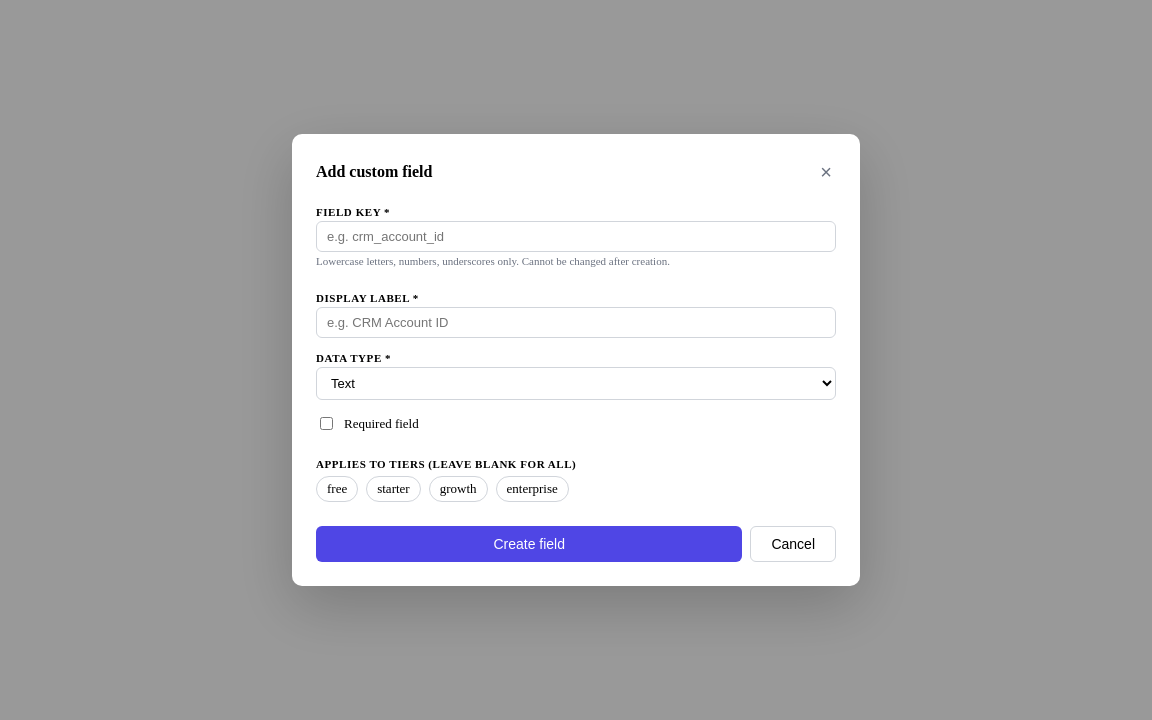
Test: AddCustomFieldModal › shows error for duplicate key (409)
This screenshot has width=1152, height=720.
Type "crm_account_id" into the field labelled "Field key *".
click(576, 236); type("crm_account_id")  # box left=316, top=221, right=836, bottom=252
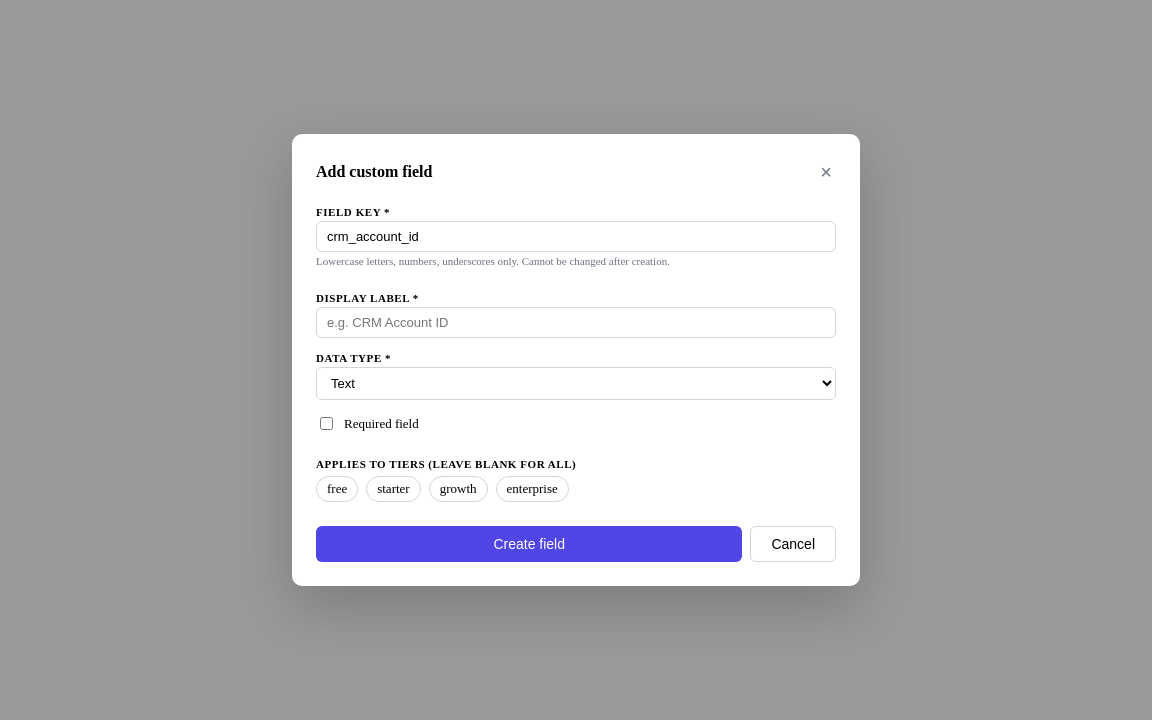
Type "Dupe" into the field labelled "Display label *".
click(576, 322); type("Dupe")  # box left=316, top=307, right=836, bottom=338
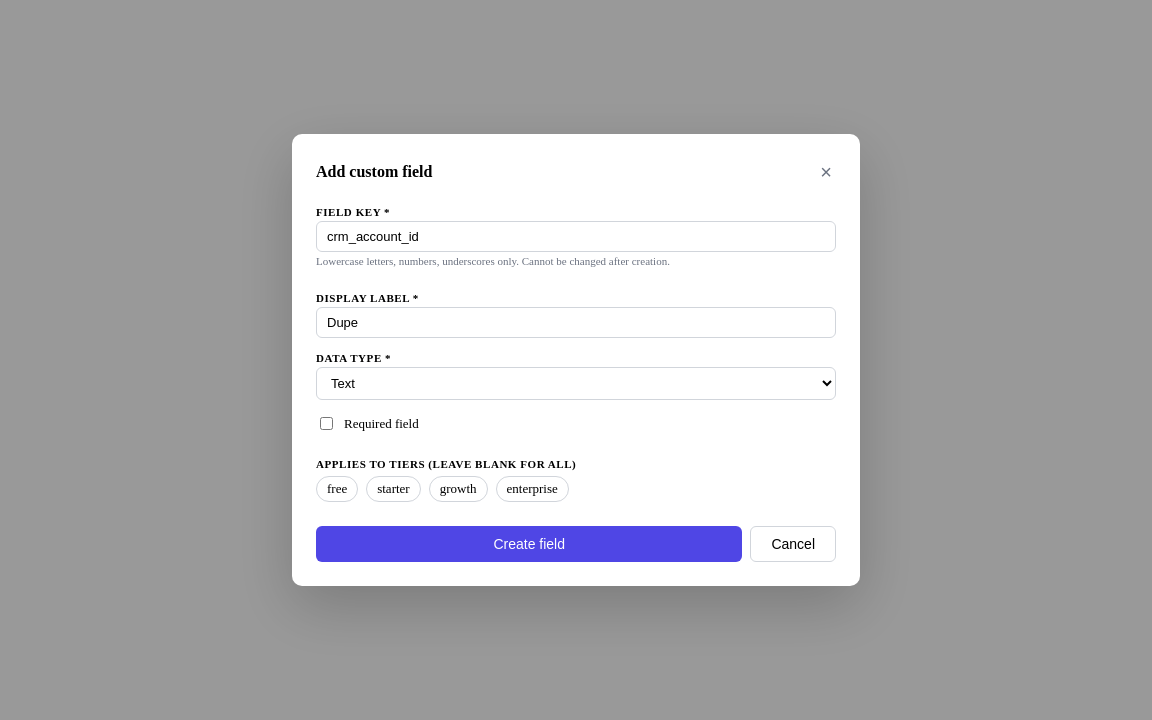
Click the button "Create field".
click(529, 544)  # box left=316, top=526, right=742, bottom=562
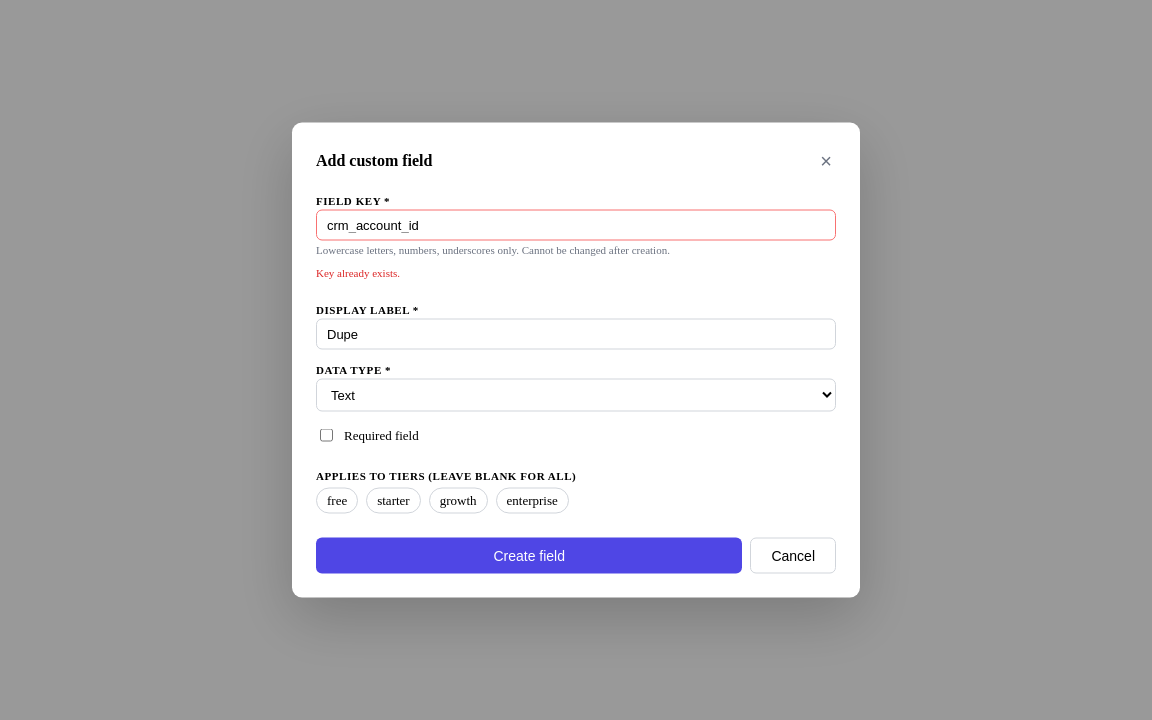
Now the message shows "Key already exists", box left=316, top=266, right=400, bottom=278
